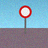sign: (19, 6, 32, 33)
